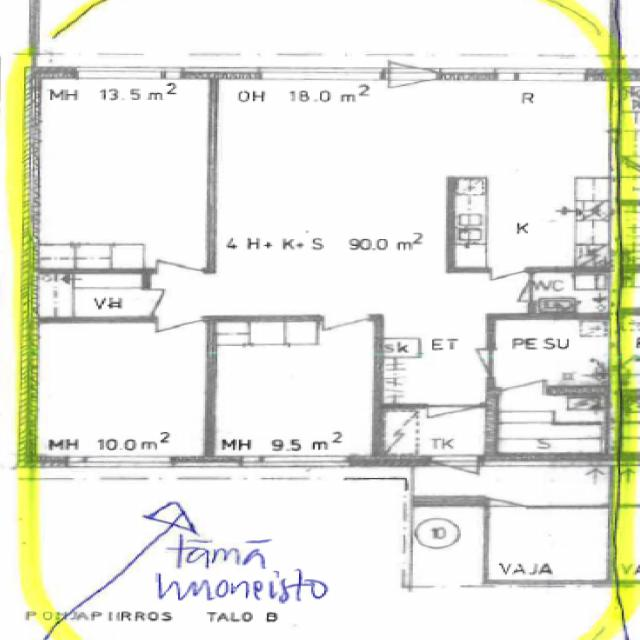door: (388, 34, 438, 79), (388, 67, 438, 111), (427, 404, 479, 443), (429, 456, 477, 498), (155, 237, 202, 274), (322, 316, 370, 352), (156, 316, 202, 351), (501, 359, 543, 395), (443, 349, 494, 378), (446, 555, 492, 580), (143, 291, 188, 315), (492, 483, 526, 511), (491, 268, 523, 295), (496, 281, 536, 301)
